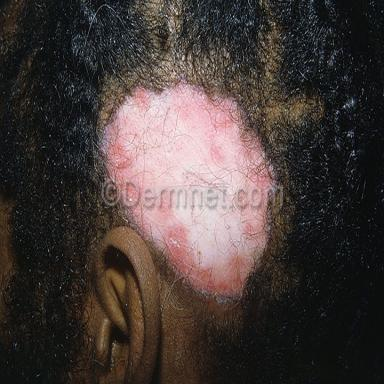Lupus-Erythematosus-Chronicus-Discoides: (101, 80, 276, 192), (125, 203, 270, 304)
